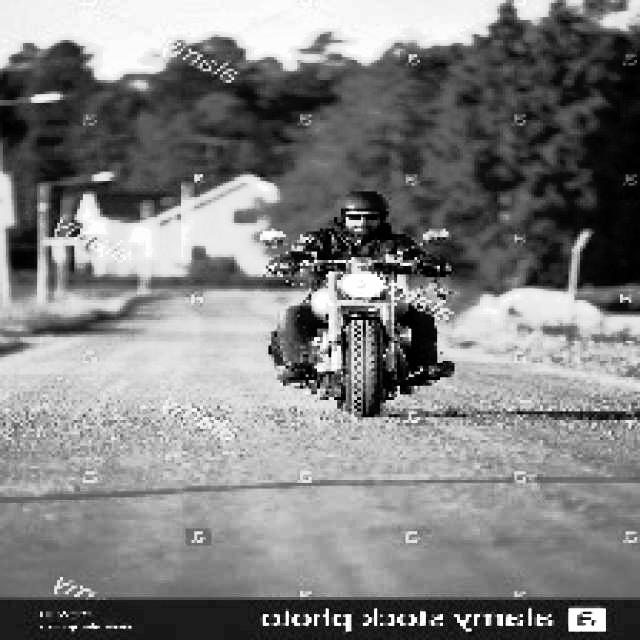Bike: (295, 254, 423, 412)
